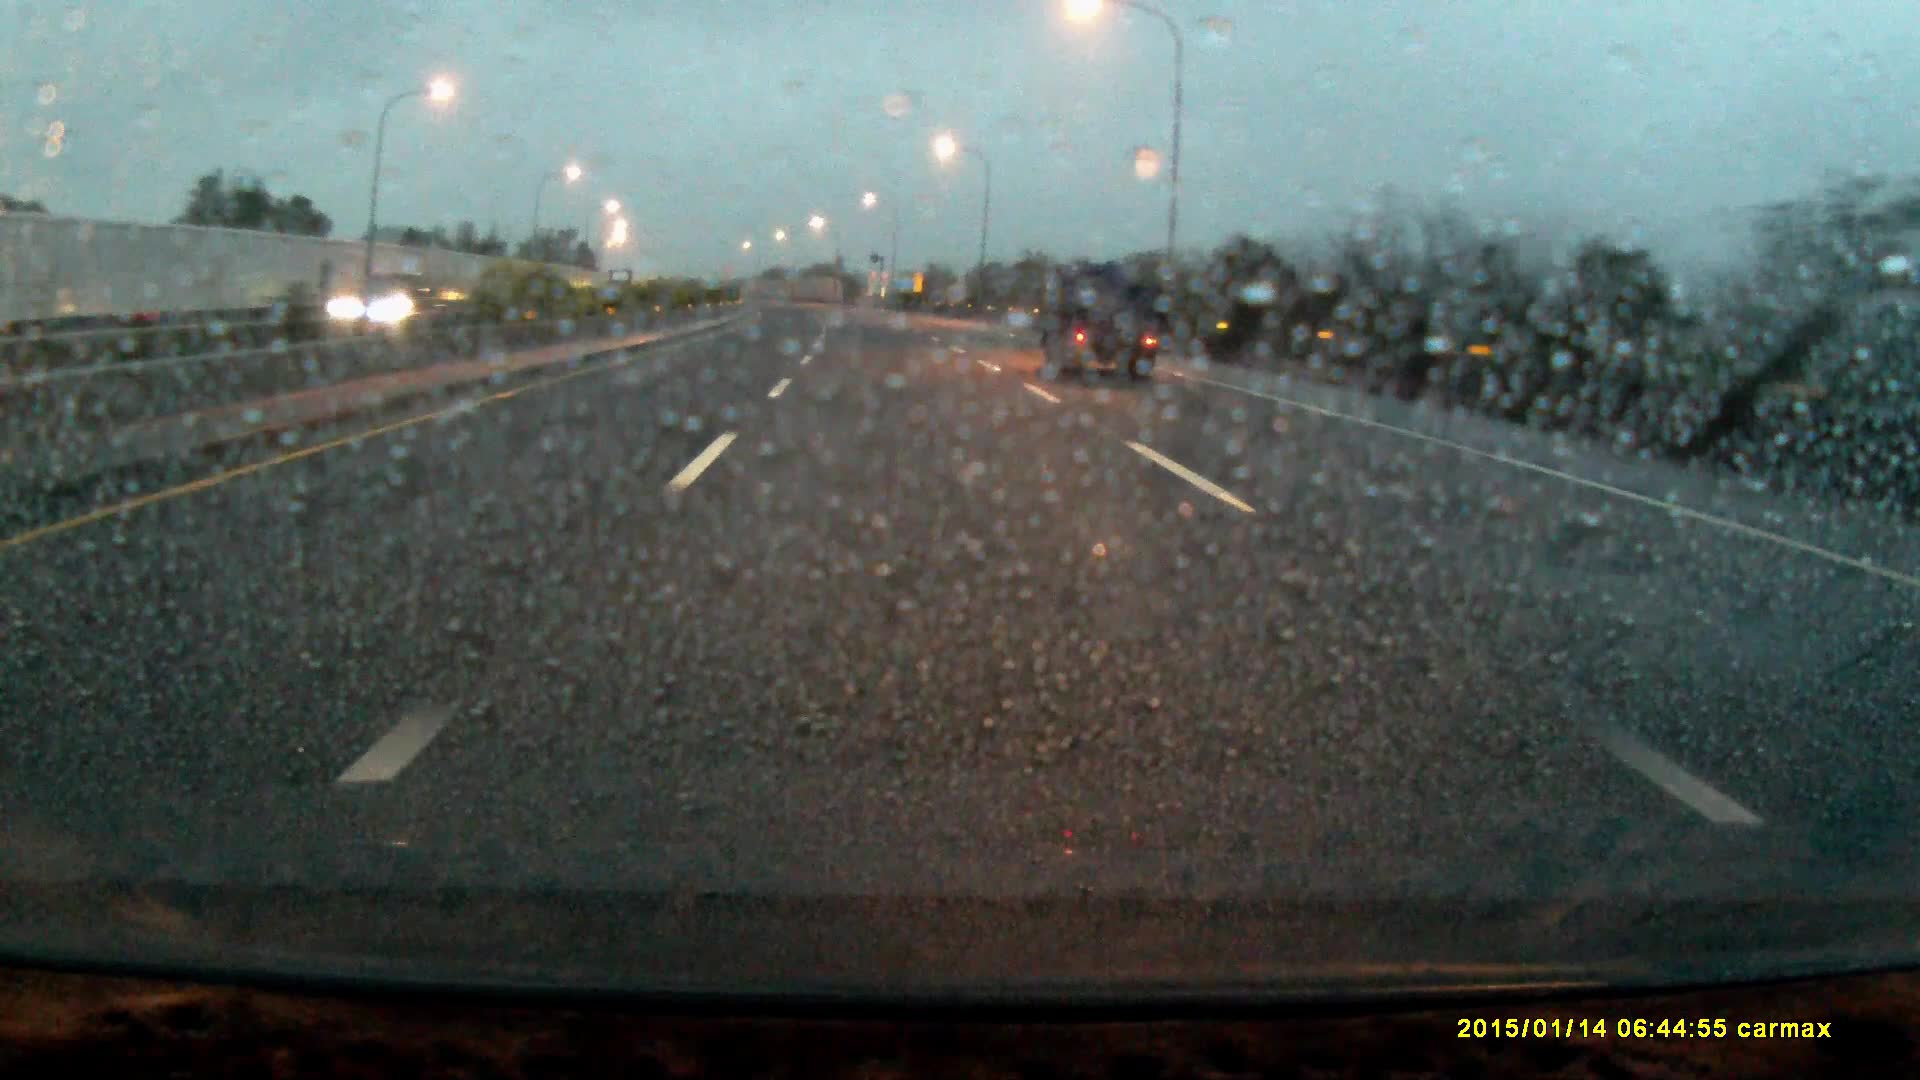vehicle: (1044, 268, 1159, 380), (313, 274, 429, 332), (611, 269, 634, 293)
